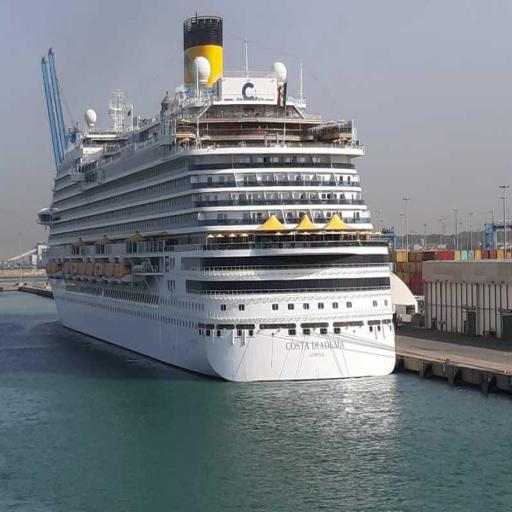cruises: (35, 15, 419, 386)
